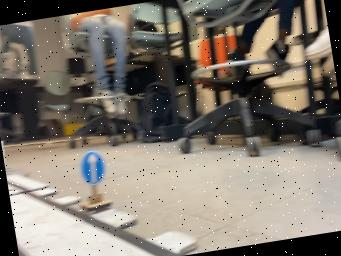forward: (79, 150, 111, 211)
street: (7, 183, 179, 256)
